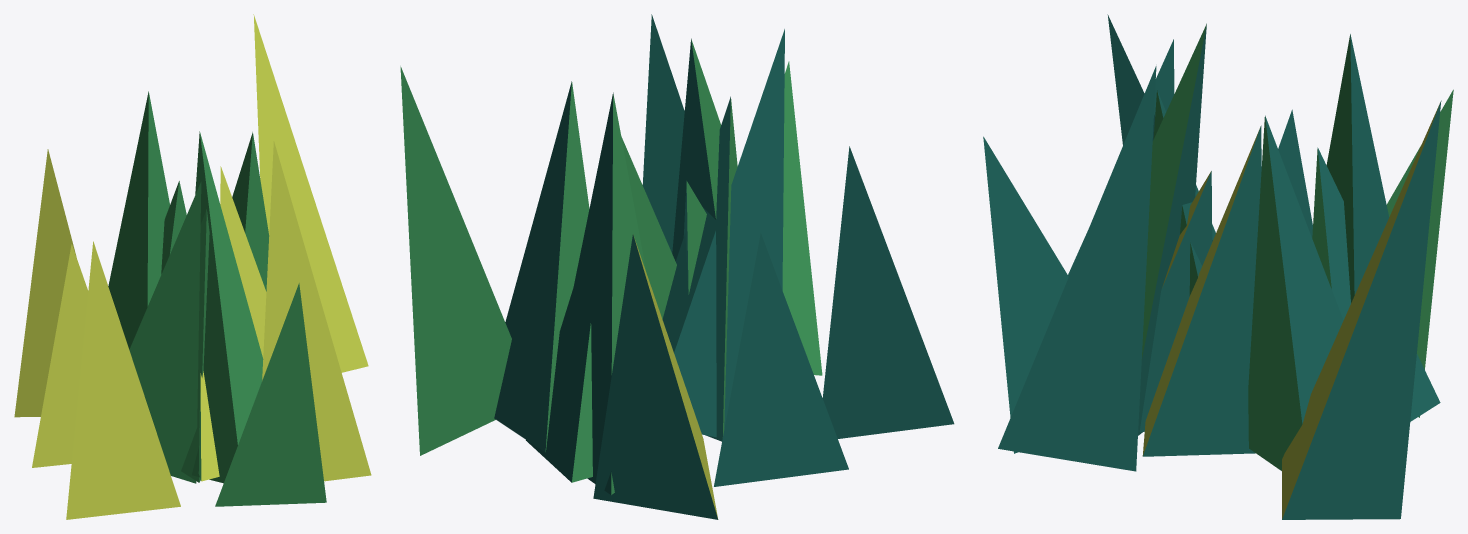
The model's file is Ot_Sivri.fbx.
The picture shows the model from 3 angles, left to right: view 1: azimuth 30°, elevation 25°; view 2: azimuth 150°, elevation 25°; view 3: azimuth 270°, elevation 25°; orthographic projection. The views are drawn at different scales.
Visible parts, largest first — view 1: Ot_Sivri; view 2: Ot_Sivri; view 3: Ot_Sivri.
Part boxes in pixels (x1,y1,x2,y2): Ot_Sivri: (14,14,371,519); Ot_Sivri: (400,14,954,519); Ot_Sivri: (983,14,1453,519).
Size of the model in its own units: 52.13 by 45.15 by 45.8.
